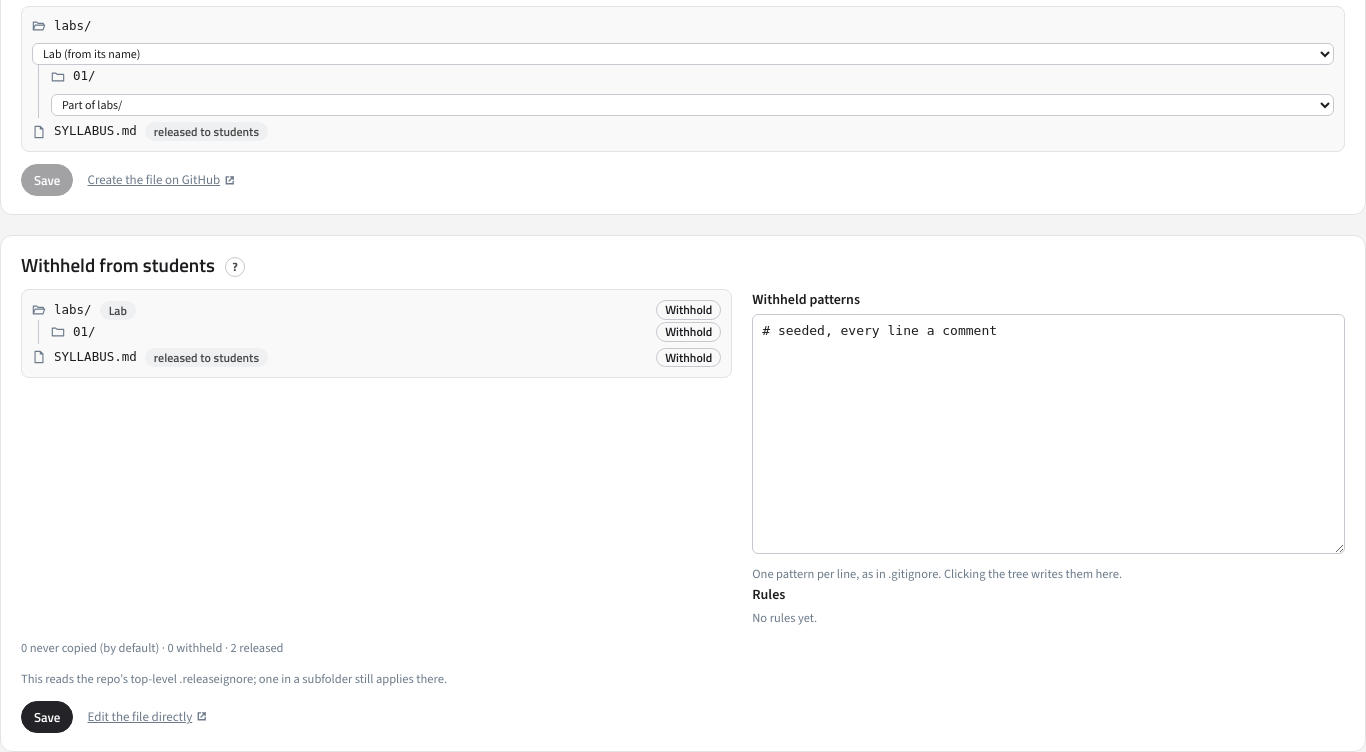
Test: Save on a materials repo’s settings starts Refresh › still saves when the Refresh is refused, and leaves it to the next Refresh
(page scrolled)
Click the button "Save" below "never copied (by default) ·".
click(47, 717)  # box [21,701,74,733]
(page scrolled)
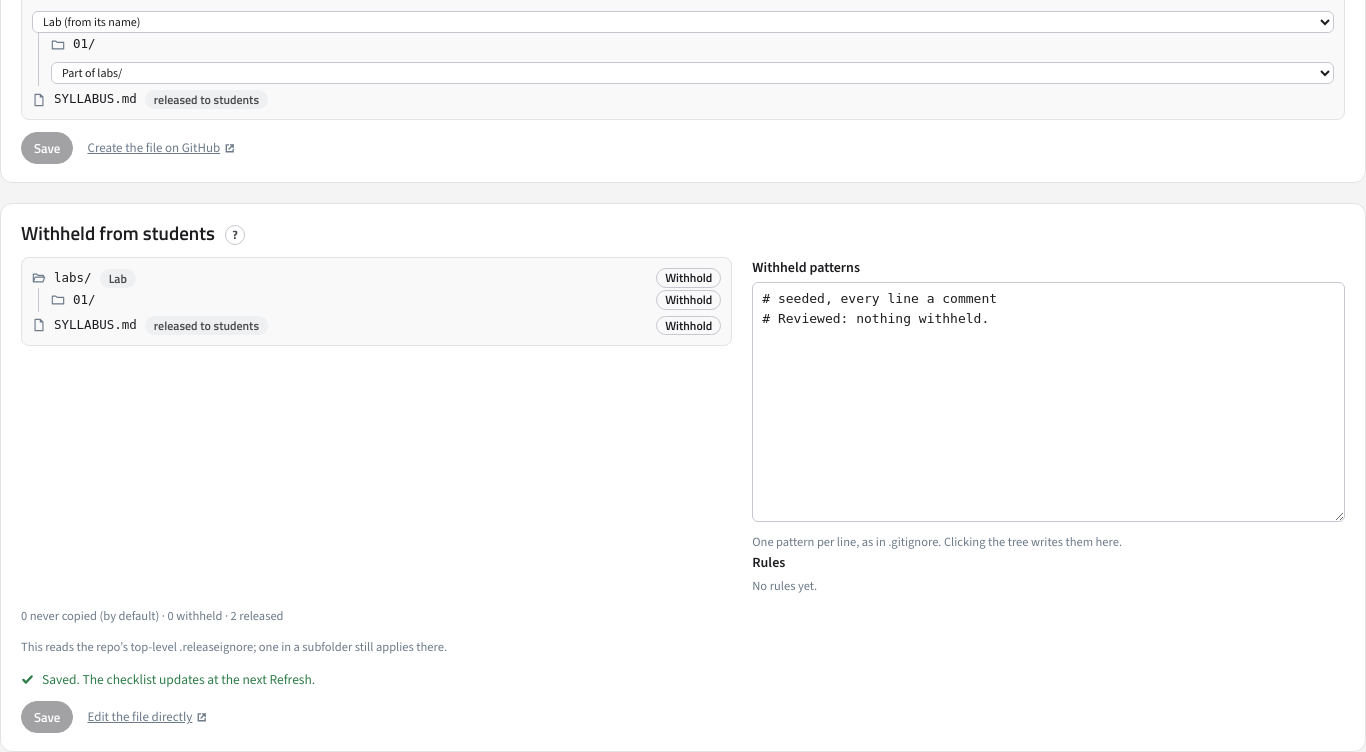
Expected: the element that starts with "Withheld from students" shows "Saved. The checklist updates at the next Refresh.", [42,670,315,688]
